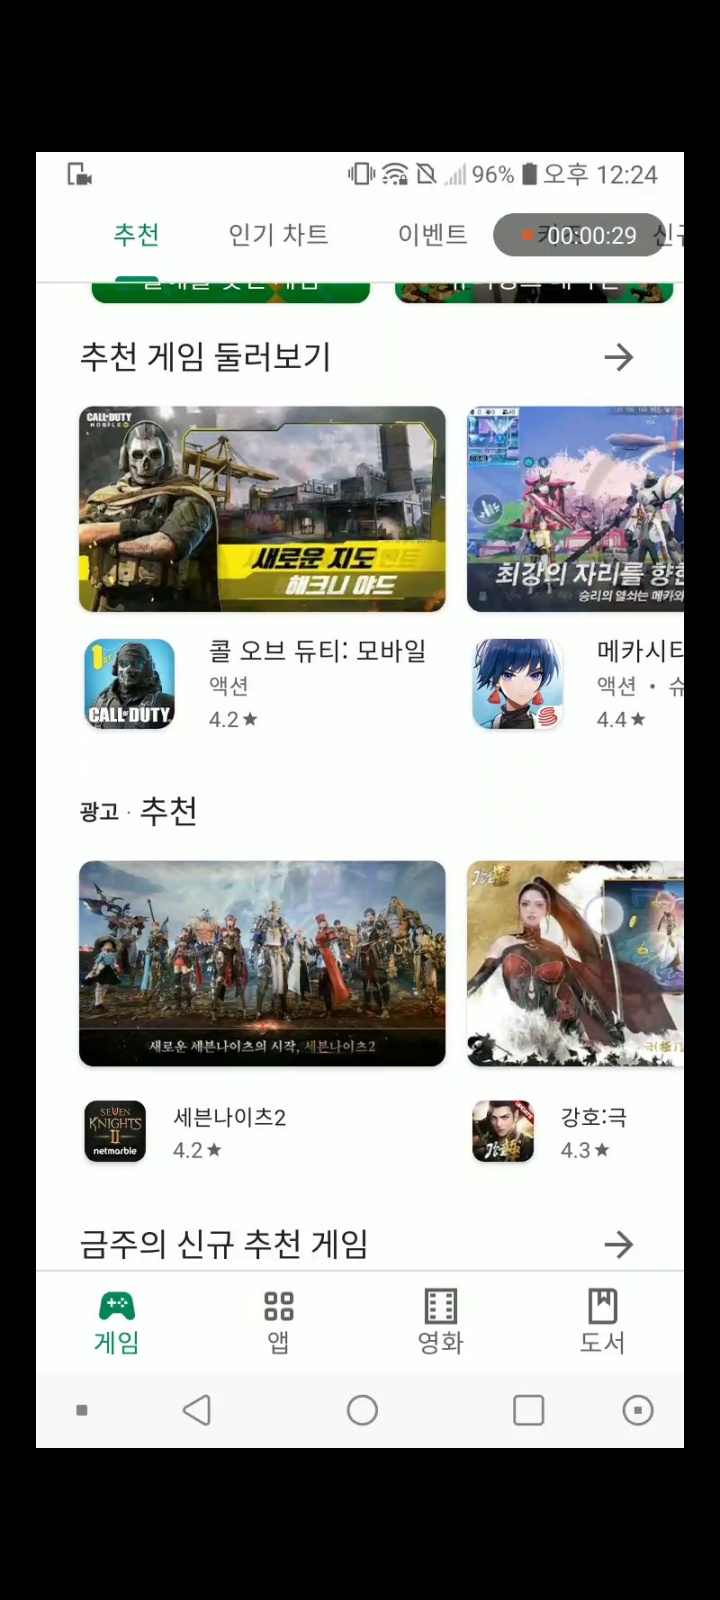Cursor: (583, 893, 628, 938)
